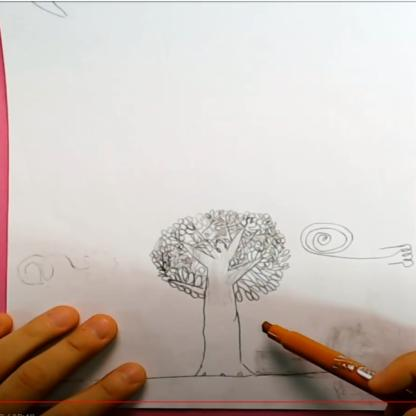branch_sharp: (180, 230, 263, 289)
crown_mushroom: (151, 212, 291, 302)
root_none: (180, 363, 268, 391)
trunk_straight: (196, 305, 244, 359)
